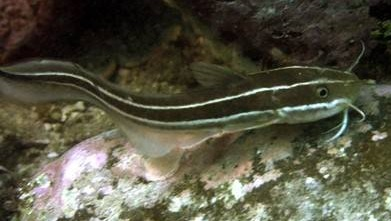gonzui: (10, 51, 377, 166)
